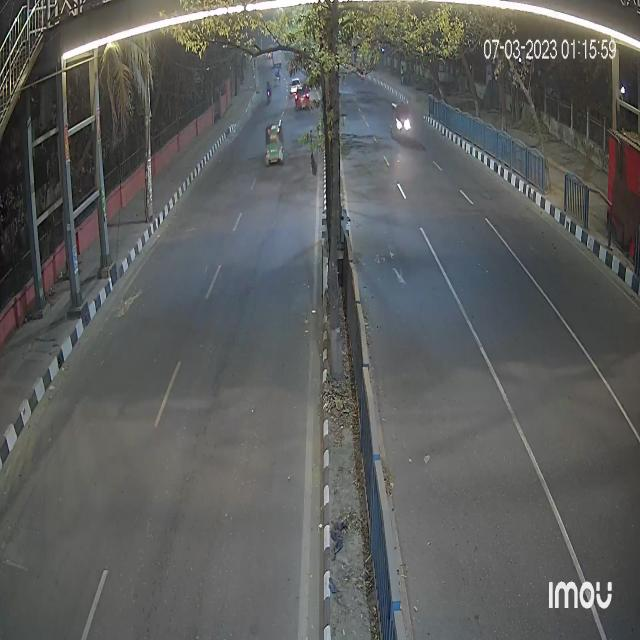cng: (265, 119, 286, 169)
